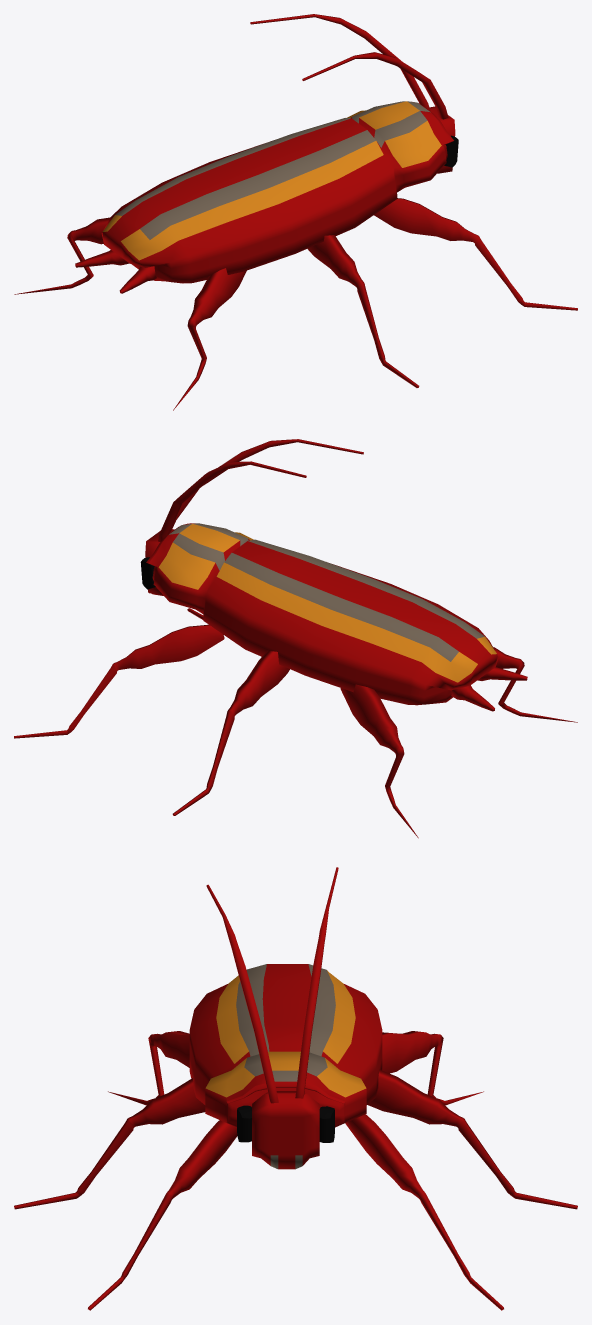
Rendered from redRoach.fbx.
3 renders of one model, top to bottom at view 1: azimuth 30°, elevation 25°; view 2: azimuth 150°, elevation 25°; view 3: azimuth 270°, elevation 25°, orthographic. The views are drawn at different scales.
Visible parts, largest first — view 1: TheRoach; view 2: TheRoach; view 3: TheRoach.
Boxes of the visible parts, x1,y1,x2,y2 form: TheRoach: (14,14,577,410); TheRoach: (14,439,577,838); TheRoach: (14,867,577,1310).
Bounding box in the file's own units: 15.84 × 10.28 × 16.14.
